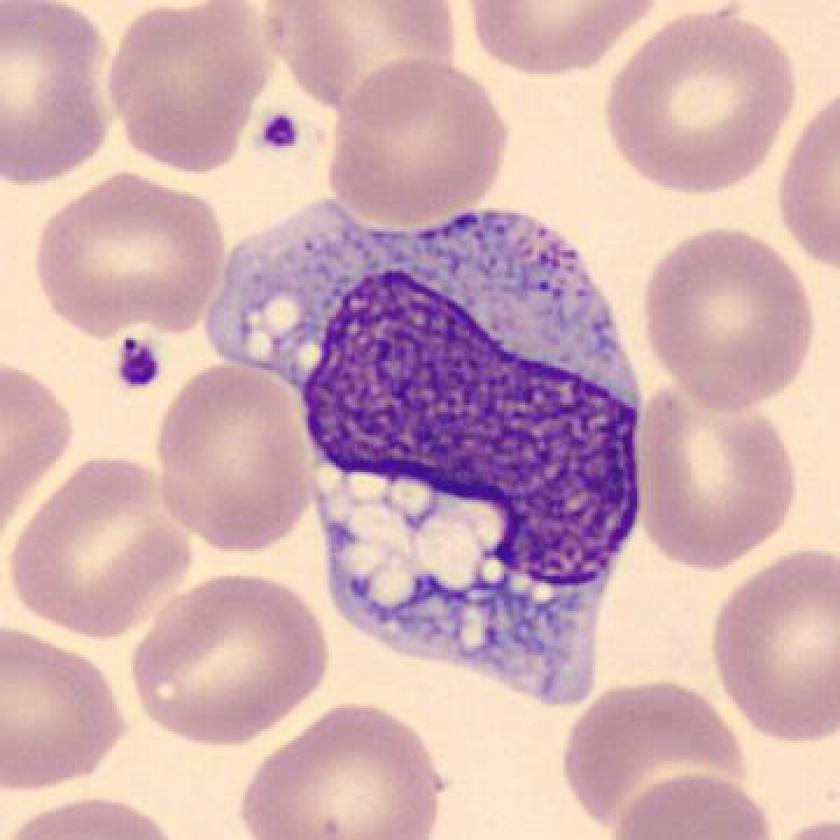monocyte: (186, 172, 669, 730)
